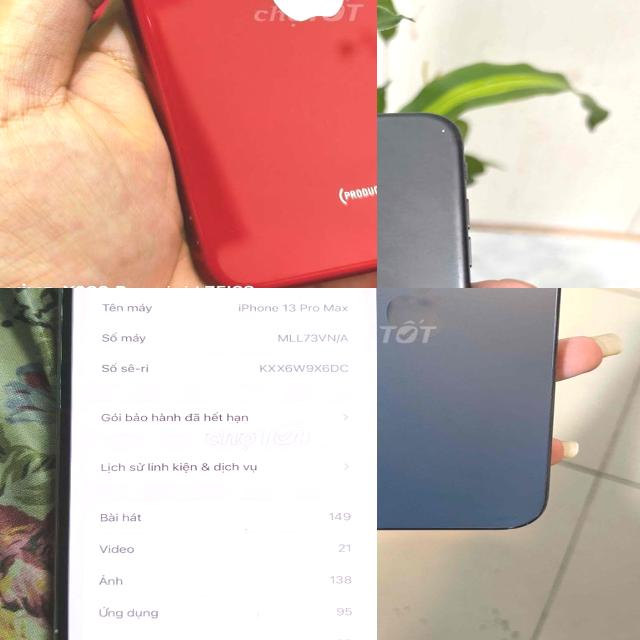gen_12_13: (54, 288, 377, 640), (377, 288, 574, 543)
gen_7_8: (124, 0, 377, 288), (377, 110, 485, 288)
scratch: (134, 4, 178, 42), (422, 118, 454, 138)
